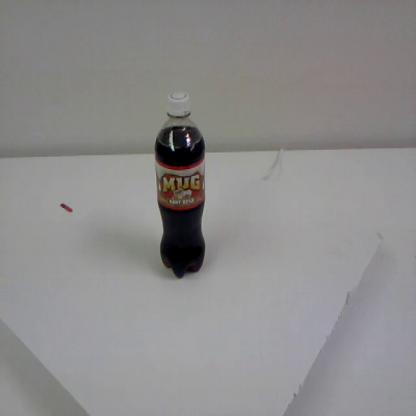bottle: (153, 87, 208, 280)
